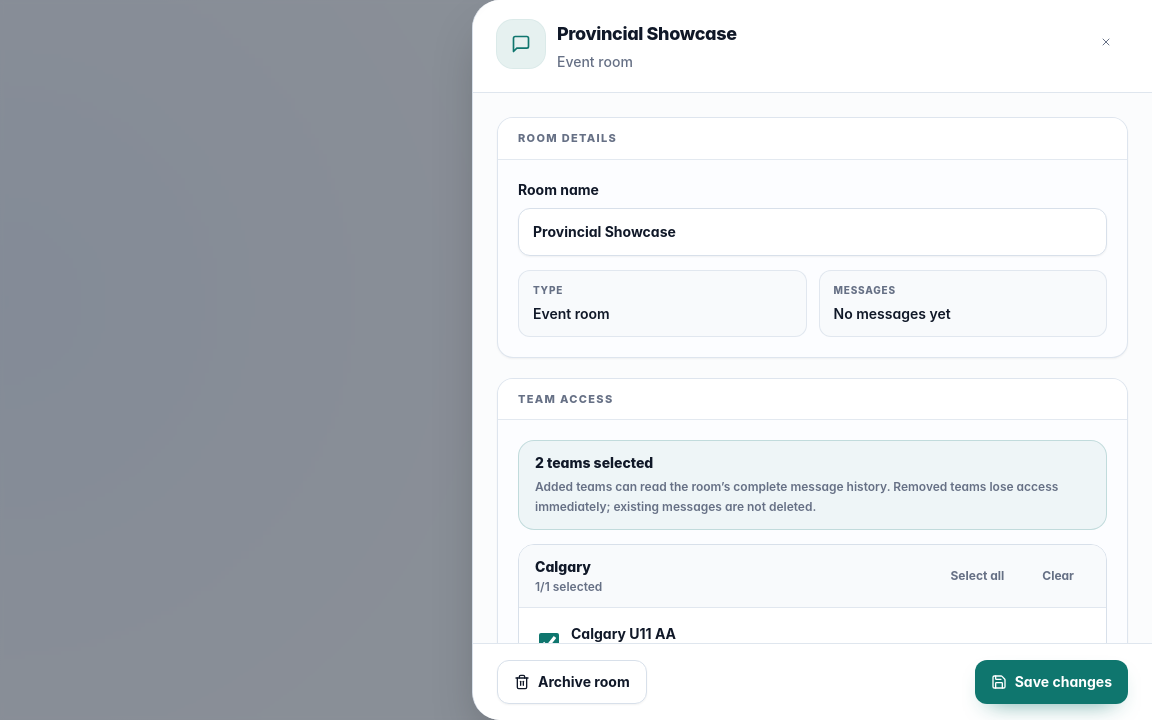
Test: AdminApp operations shell › keeps an Event Room open and explains an archive failure
The width and height of the screenshot is (1152, 720).
Click the button "Archive room" at (572, 682), box [497, 660, 647, 704]
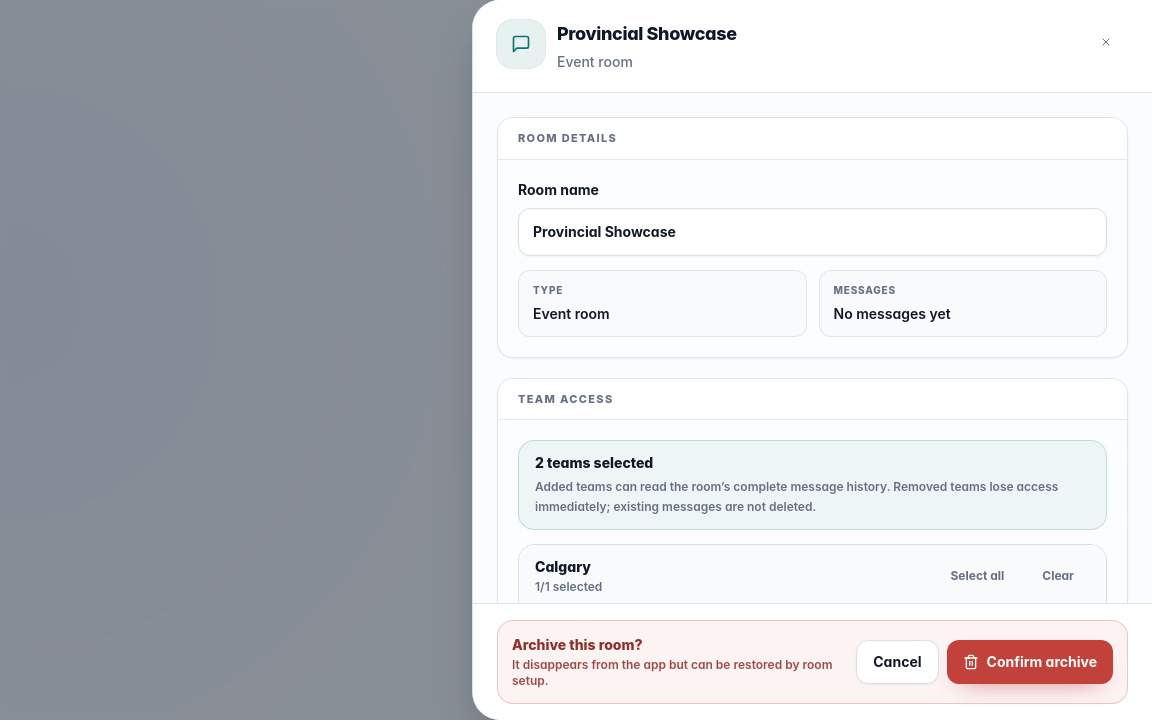
Click the button "Confirm archive" at (1030, 662), box [946, 640, 1113, 684]
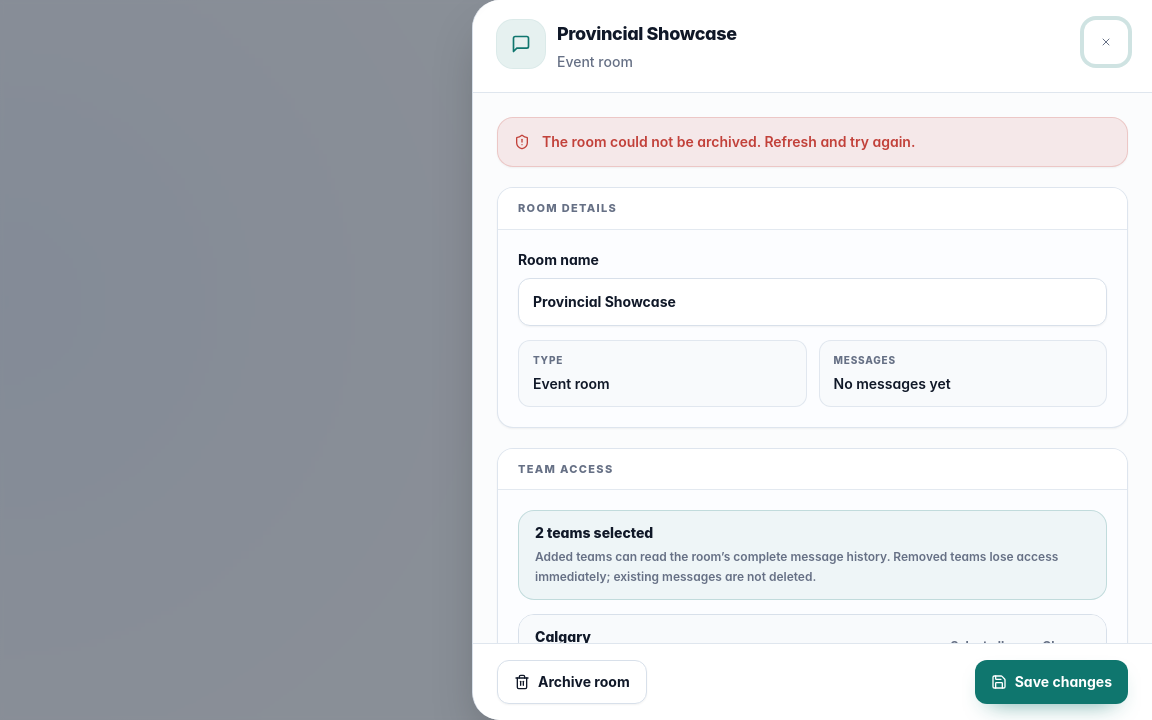
Check: the text "The room could not be archived. Refresh and try again." is shown, box [542, 132, 915, 152]
Check: the button "Archive room" is shown, box [497, 660, 647, 704]
